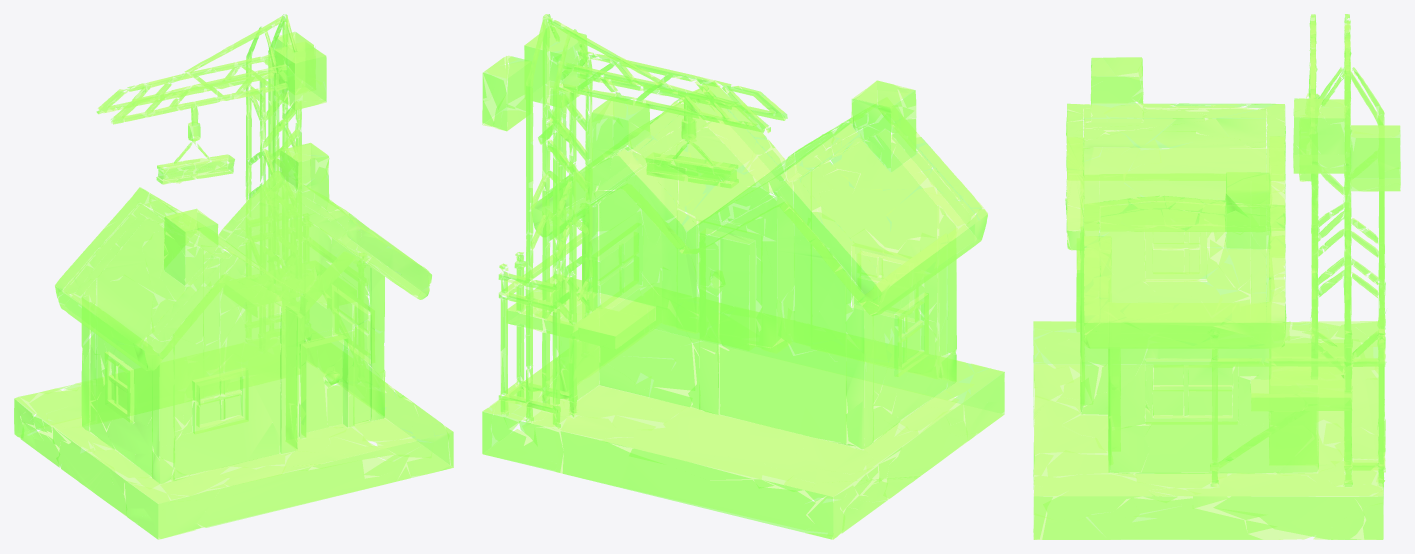
File: forming-hauz.glb
The picture shows the model from 3 angles, left to right: view 1: azimuth 30°, elevation 25°; view 2: azimuth 150°, elevation 25°; view 3: azimuth 270°, elevation 25°; orthographic projection. The views are drawn at different scales.
Visible parts, largest first — view 1: model; view 2: model; view 3: model.
Boxes of the visible parts, <box> form: model: <box>14,14,453,539</box>; model: <box>482,14,1004,539</box>; model: <box>1033,14,1400,539</box>.
Bounding box in the file's own units: 1.54 × 1.83 × 1.36.
